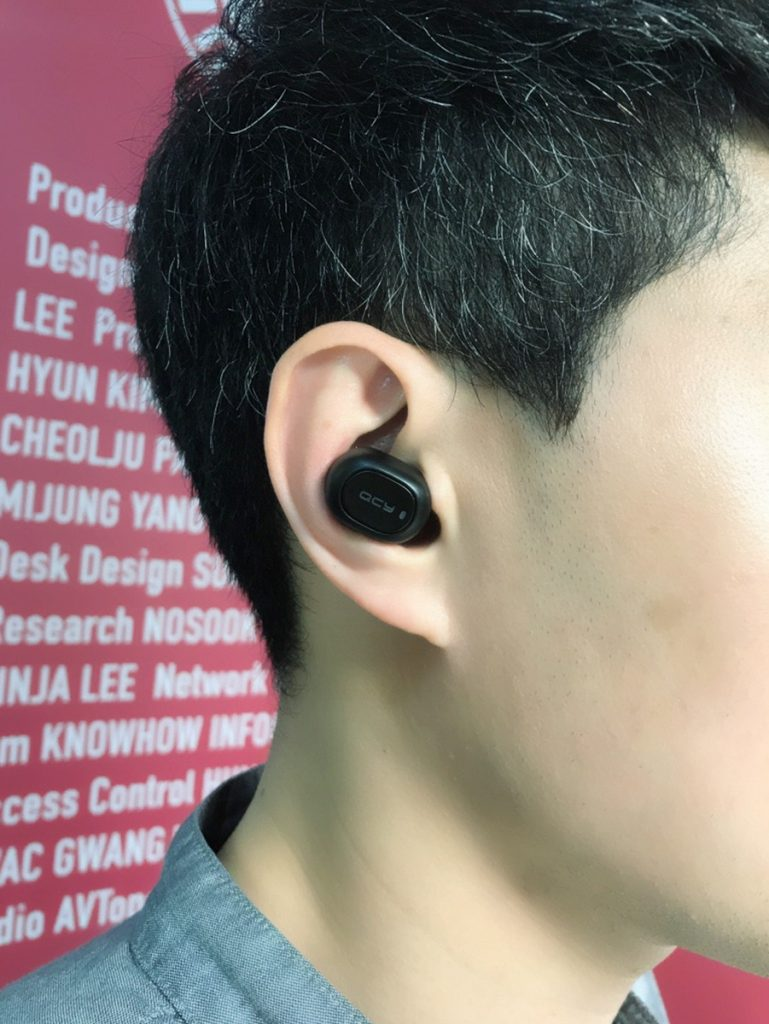earphone: (262, 321, 471, 650)
